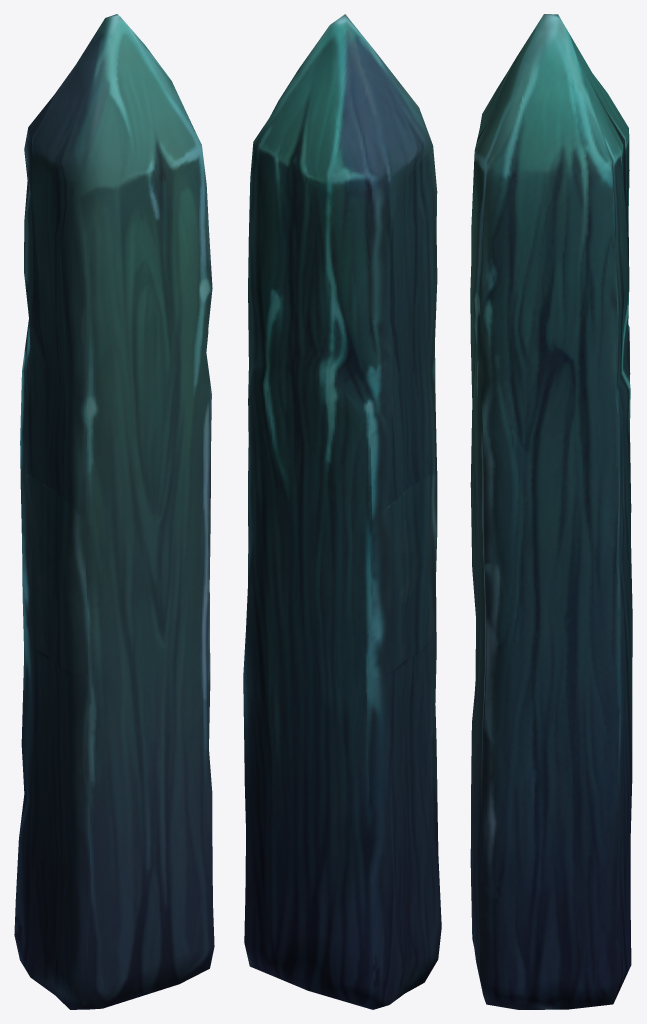
Rendered from env_post.fbx.
3 renders of one model, left to right at view 1: azimuth 30°, elevation 25°; view 2: azimuth 150°, elevation 25°; view 3: azimuth 270°, elevation 25°, orthographic.
Visible parts, largest first — view 1: env_post; view 2: env_post; view 3: env_post.
Part boxes in pixels (x1,y1,x2,y2): env_post: [14, 14, 214, 1009]; env_post: [243, 14, 441, 1009]; env_post: [470, 14, 632, 1009].
Size of the model in its own units: 14.49 by 94.39 by 14.1.
Materials: 1 (1 with a texture image).
